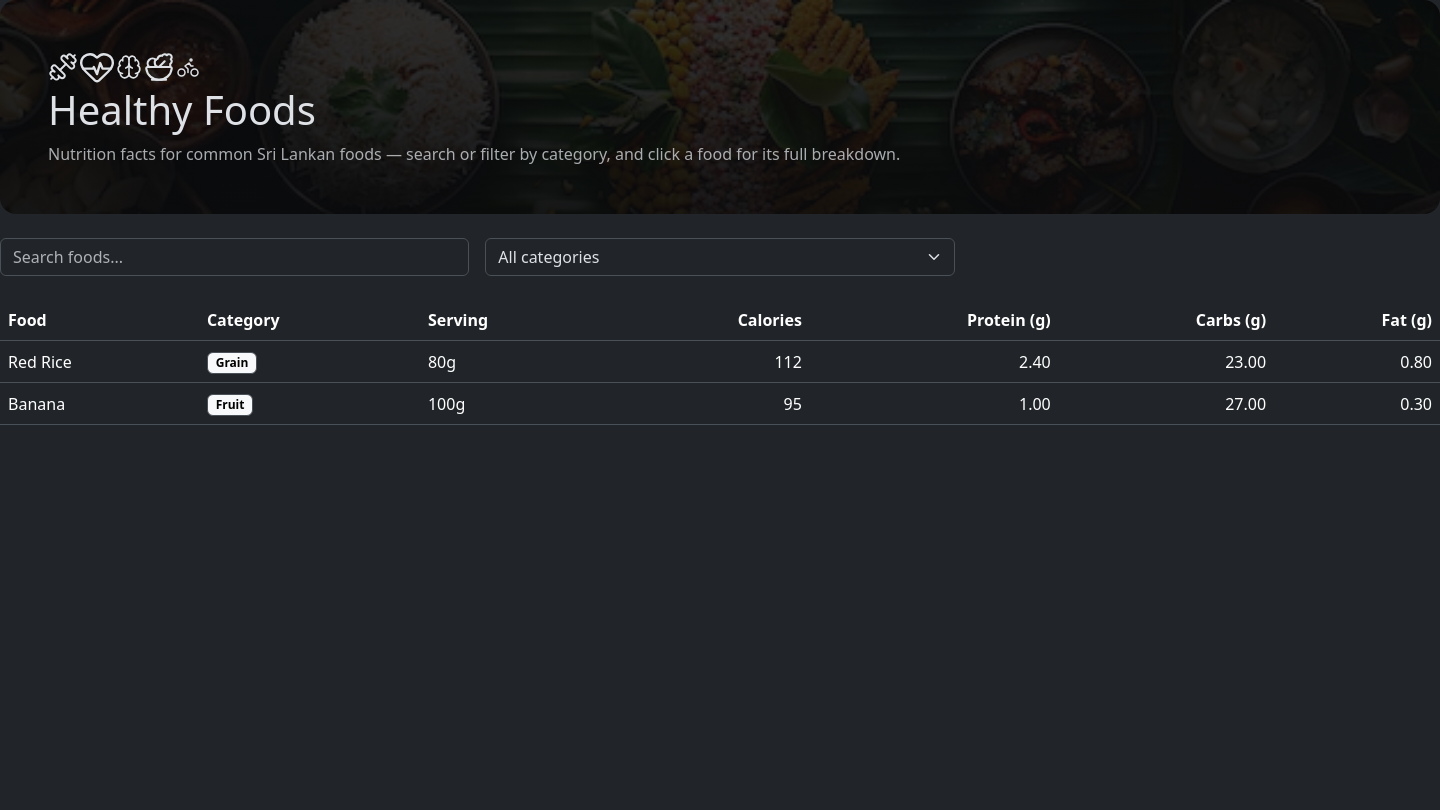
opens a detail modal with the full nutrition breakdown when a row is clicked
Click the text "Banana".
click(99, 404)  # box [0,383,199,425]
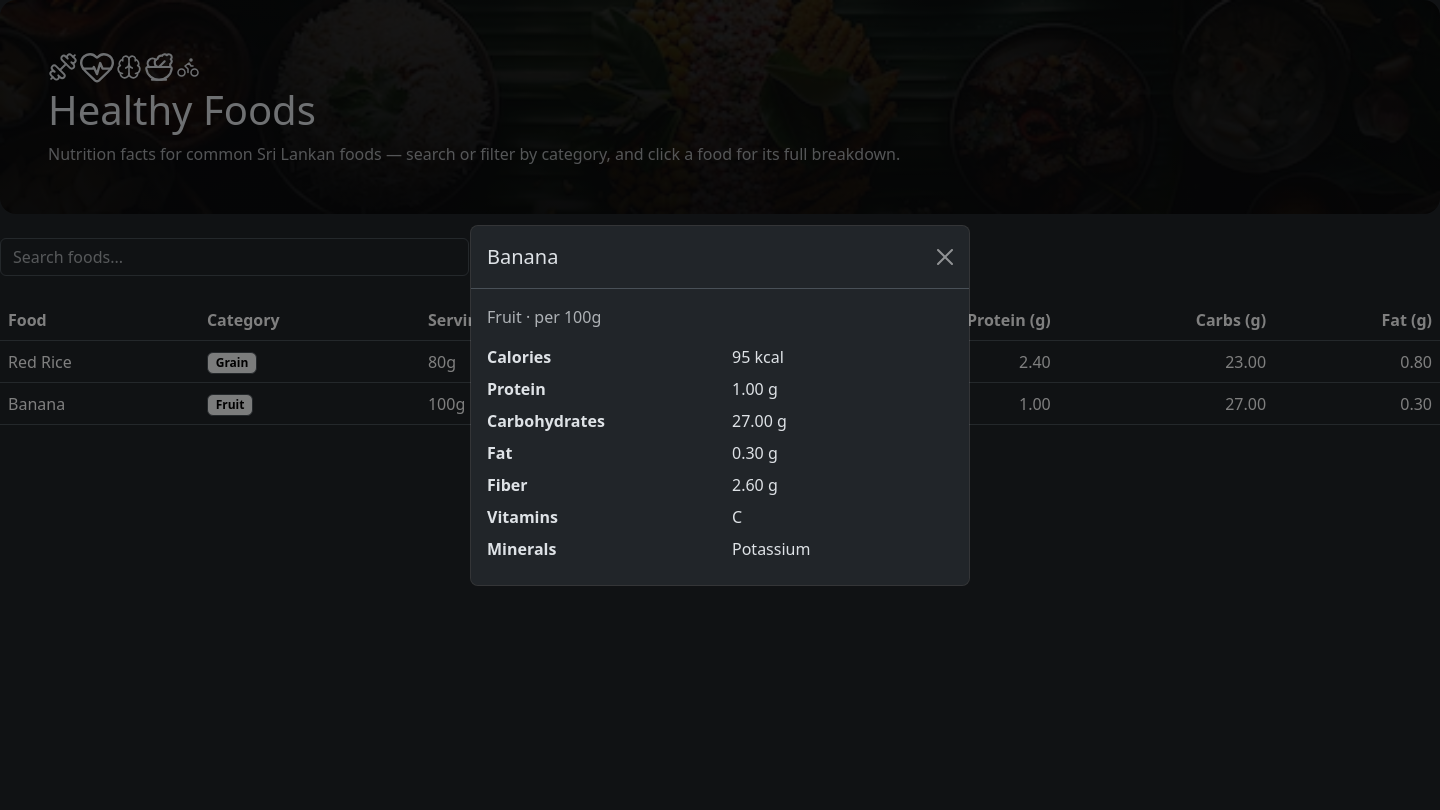
Check: the heading "Banana" is shown, box [487,242,558,272]
Check: the text "95 kcal" is shown, box [732,346,784,368]
Check: the text "Potassium" is shown, box [732,538,810,560]
